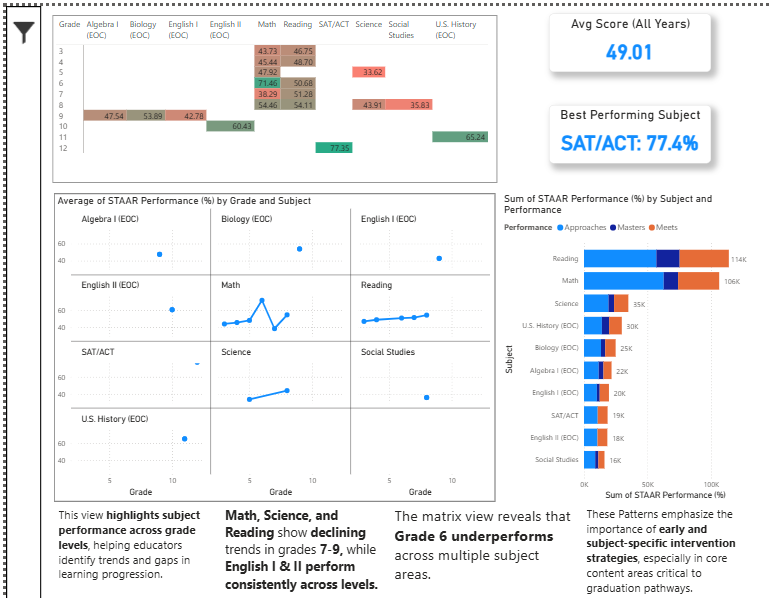

What the dashboard file says about the page in this screenshot:
{"tool":"powerbi","page":{"name":"Grade Level and Subject Detail","canvas":[1280,1000],"ordinal":4},"visuals":[{"type":"group","id":"g1","title":"Nav Bar","box":[0,0,58.9,996.7],"z":0},{"type":"shape","box":[0,0,58.9,996.7],"z":0,"group":"g1"},{"type":"textbox","box":[82.5,830,268.5,170],"z":0,"group":"g2"},{"type":"actionButton","box":[0,0,58.9,89.6],"z":1000,"group":"g1"},{"type":"card","title":"Avg Score (All Years)","fields":{"Values":["All_Measures.Avg Score (All Years)"]},"box":[905.8,12.5,270,97.5],"z":1000},{"type":"textbox","box":[359.6,827.5,275,170],"z":1000,"group":"g2"},{"type":"group","id":"g2","title":"Group 2","box":[82.5,827.5,1164.2,172.5],"z":2000},{"type":"textbox","box":[643.3,827.5,311.6,170],"z":2000,"group":"g2"},{"type":"textbox","box":[963.6,827.5,283.1,170],"z":3000,"group":"g2"},{"type":"pivotTable","fields":{"Columns":["cleaned_data_final.Subject"],"Values":["Avg(cleaned_data_final.STAAR Performance (%))"],"Rows":["cleaned_data_final.Grade"]},"box":[78,14,741.3,280],"z":4000},{"type":"lineChart","fields":{"Rows":["cleaned_data_final.Subject"],"Category":["cleaned_data_final.Grade"],"Y":["Avg(cleaned_data_final.STAAR Performance (%))"]},"box":[80,312,735.3,513.3],"z":5000},{"type":"barChart","fields":{"Category":["cleaned_data_final.Subject"],"Series":["cleaned_data_final.Performance"],"Y":["Sum(cleaned_data_final.STAAR Performance (%))"]},"box":[824,310,428,518],"z":6000},{"type":"card","title":"Best Performing Subject","fields":{"Values":["All_Measures.Top Subject"]},"box":[905,164.2,270,97.5],"z":7000}]}

Visuals, with their boxes in screenshot pixels (x1, y1, x2, y2), scaled from the page's 1280x1000 canvas onto the 771x598 screenshot:
"Nav Bar" group: {"x1": 0, "y1": 0, "x2": 35, "y2": 596}
shape: {"x1": 0, "y1": 0, "x2": 35, "y2": 596}
textbox: {"x1": 50, "y1": 496, "x2": 211, "y2": 597}
actionButton: {"x1": 0, "y1": 0, "x2": 35, "y2": 54}
"Avg Score (All Years)" card: {"x1": 546, "y1": 7, "x2": 708, "y2": 66}
textbox: {"x1": 217, "y1": 495, "x2": 382, "y2": 597}
"Group 2" group: {"x1": 50, "y1": 495, "x2": 751, "y2": 597}
textbox: {"x1": 387, "y1": 495, "x2": 575, "y2": 597}
textbox: {"x1": 580, "y1": 495, "x2": 751, "y2": 597}
pivotTable - cleaned_data_final.Subject x Avg(cleaned_data_final.STAAR Performance (%)): {"x1": 47, "y1": 8, "x2": 494, "y2": 176}
lineChart - cleaned_data_final.Subject x cleaned_data_final.Grade: {"x1": 48, "y1": 187, "x2": 491, "y2": 494}
barChart - cleaned_data_final.Subject x cleaned_data_final.Performance: {"x1": 496, "y1": 185, "x2": 754, "y2": 495}
"Best Performing Subject" card: {"x1": 545, "y1": 98, "x2": 708, "y2": 156}
